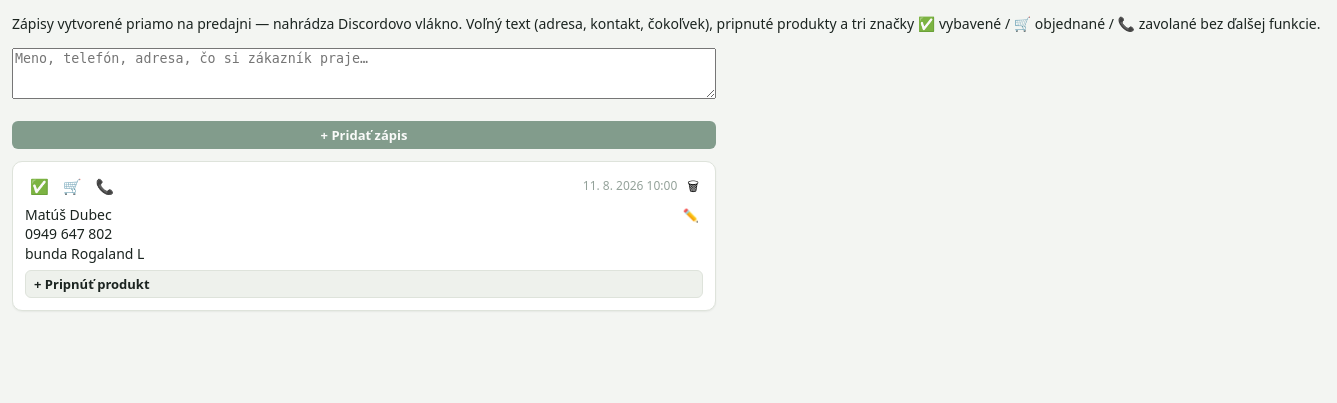
Test: upraví text zápisu cez inline ✏️ toggle
This screenshot has width=1337, height=403.
Expected: the element with test id "floor-note-row-note-a" is shown, 12,161 -> 716,311
Click the button with test id "floor-note-edit-note-a" at [691, 215], box 679,205 -> 703,226
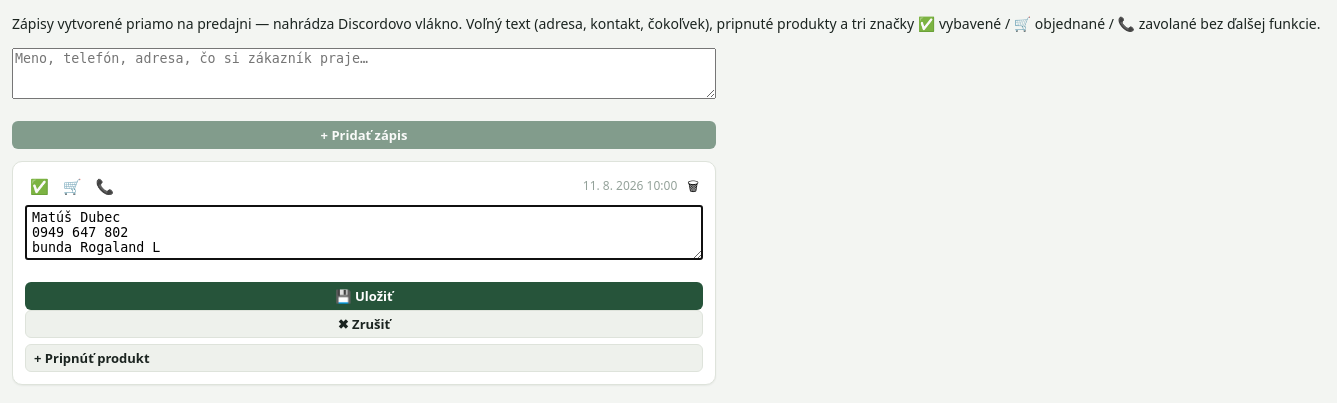
Replace the text in the text box with test id "floor-note-edit-input-note-a" with "nový text" at [364, 232], box 25,205 -> 703,260
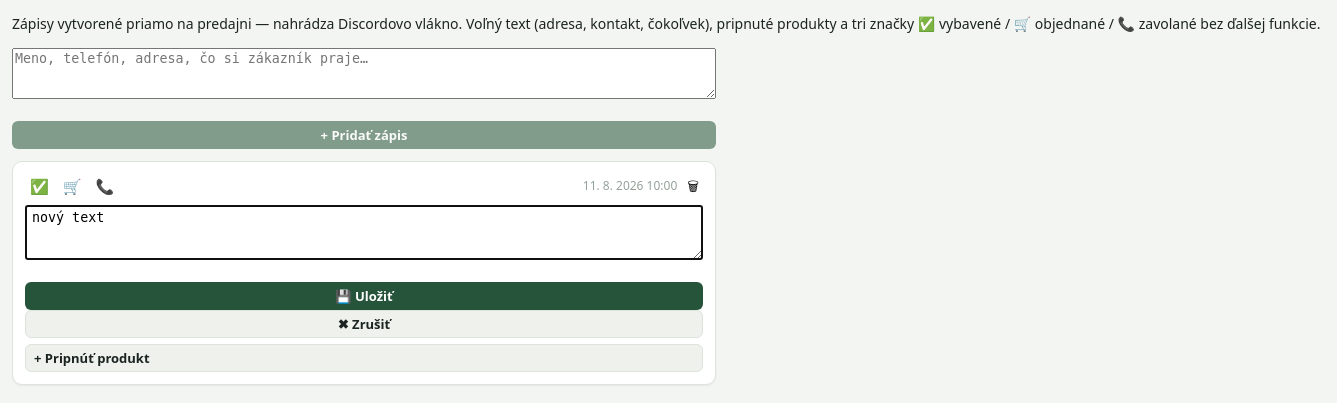
Click the button with test id "floor-note-edit-save-note-a" at [364, 296], box 25,282 -> 703,310
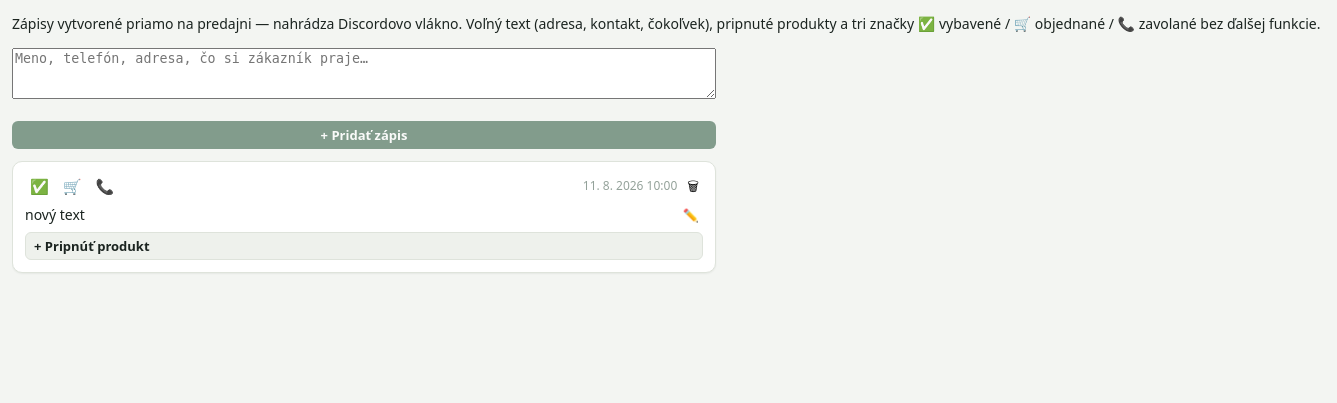
Now the text with test id "floor-note-text-note-a" reads "nový text", box 25,205 -> 85,224
